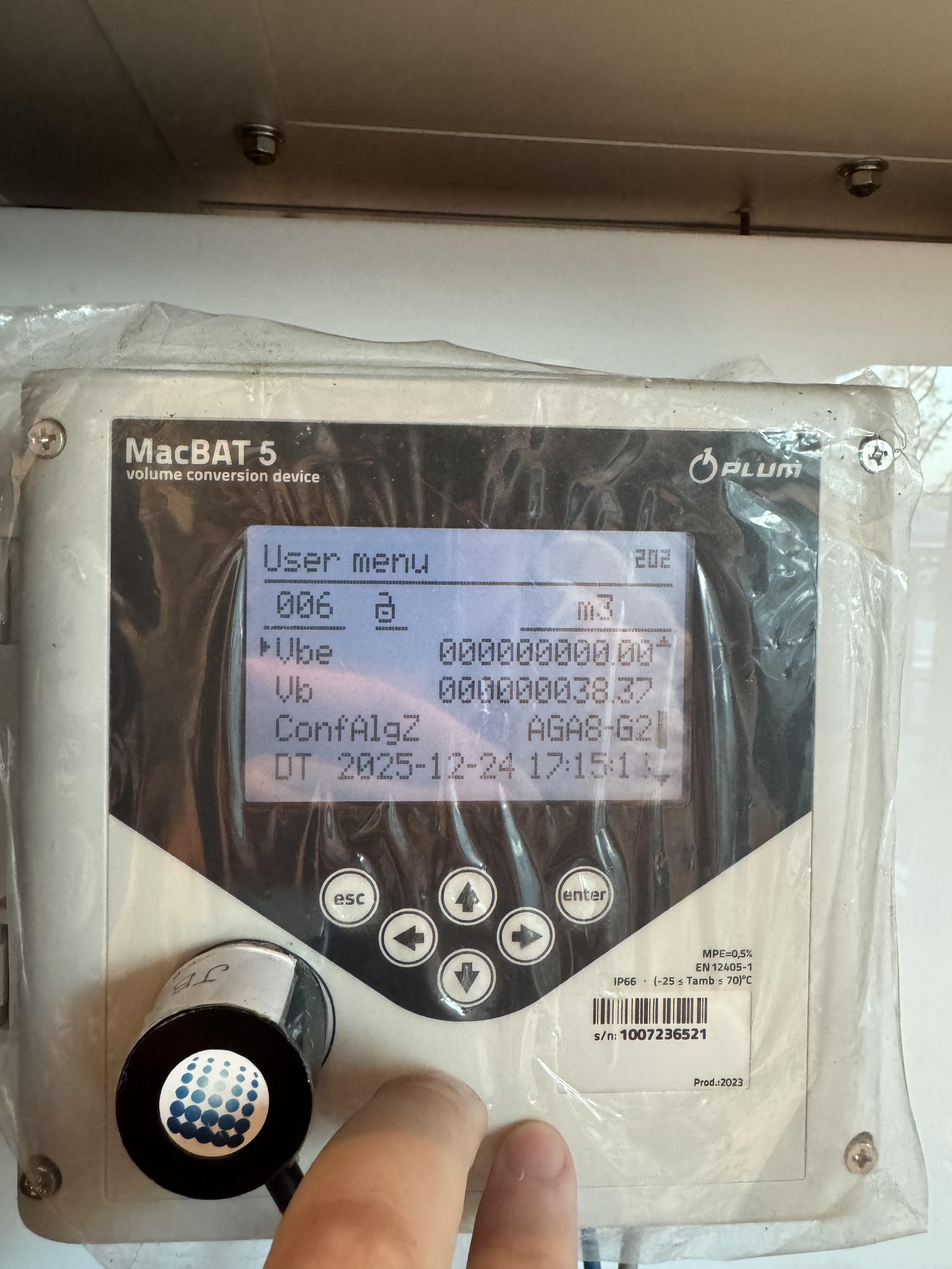digital_screen: (243, 526, 694, 811)
